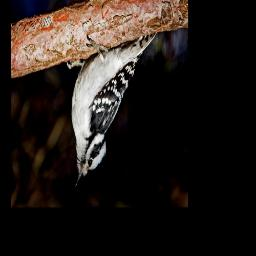Woodpecker: (64, 32, 157, 190)
